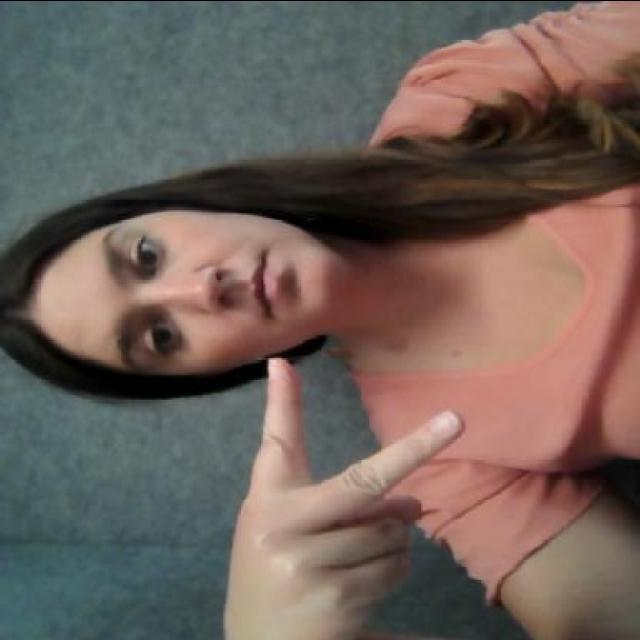Scissors: (212, 358, 468, 634)
